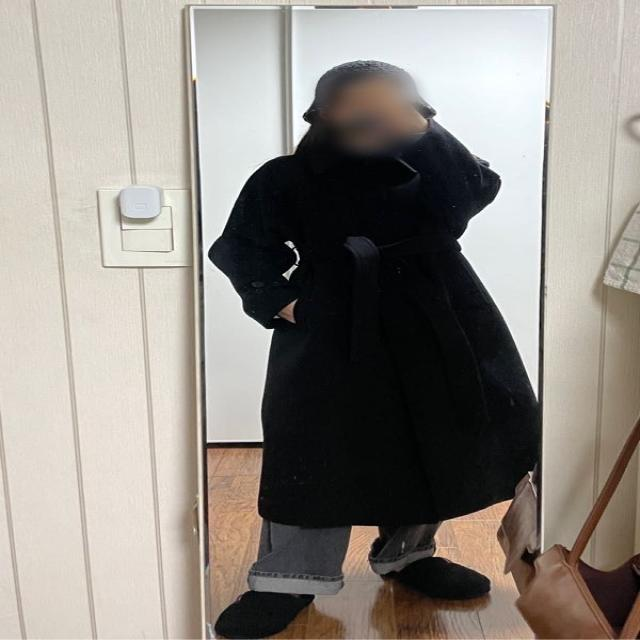coat: (204, 117, 544, 529)
denimpants: (250, 512, 450, 593)
